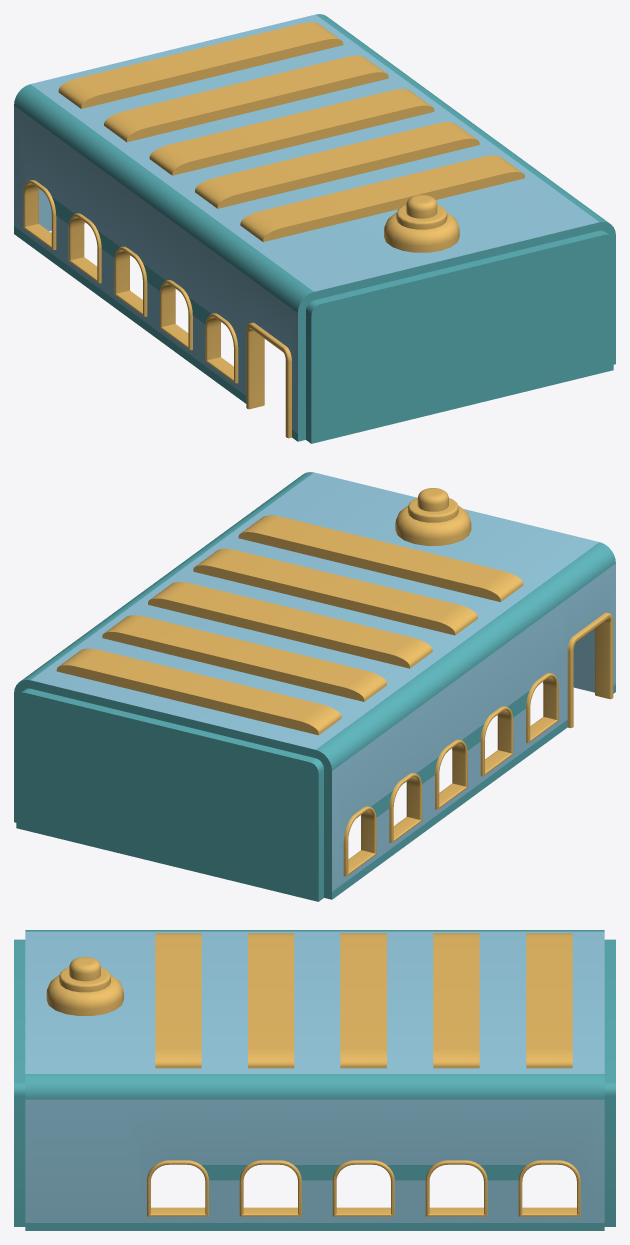
File: techo_vagon.fbx
The picture shows the model from 3 angles, top to bottom: view 1: azimuth 30°, elevation 25°; view 2: azimuth 150°, elevation 25°; view 3: azimuth 270°, elevation 25°; orthographic projection. The views are drawn at different scales.
Parts seen in each view (by area): view 1: Cylinder.012; view 2: Cylinder.012; view 3: Cylinder.012.
Boxes of the visible parts, x1,y1,x2,y2 form: Cylinder.012: (14,14,615,443); Cylinder.012: (14,472,615,901); Cylinder.012: (14,930,615,1230).
Bounding box in the file's own units: 1652 × 891 × 2595.
